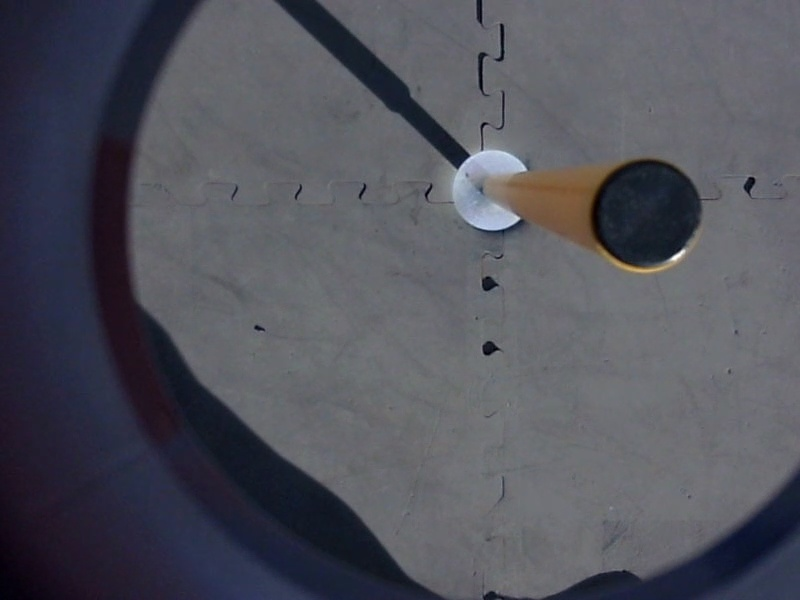tip: (582, 152, 710, 280)
